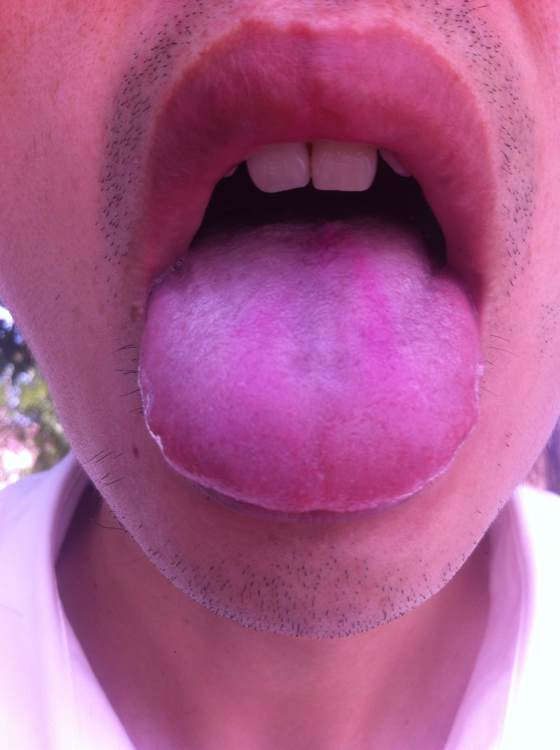pangdashe: (138, 215, 480, 511)
zishe: (138, 215, 480, 511)
